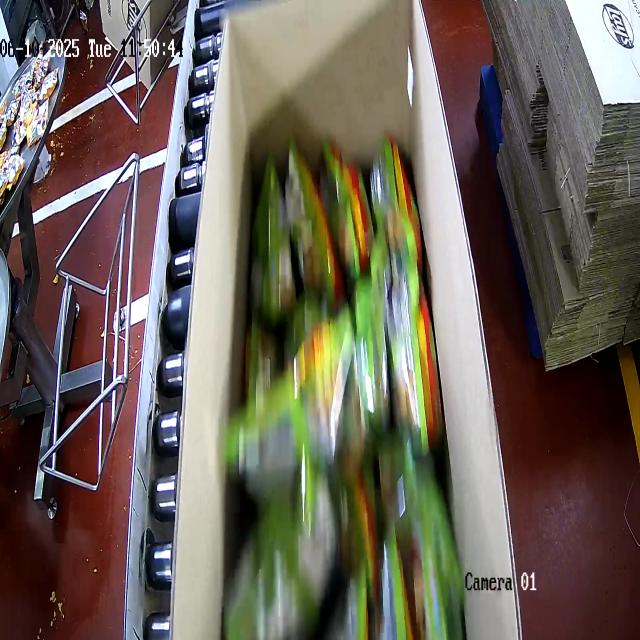YOGURT_HERB: (233, 144, 454, 640)
